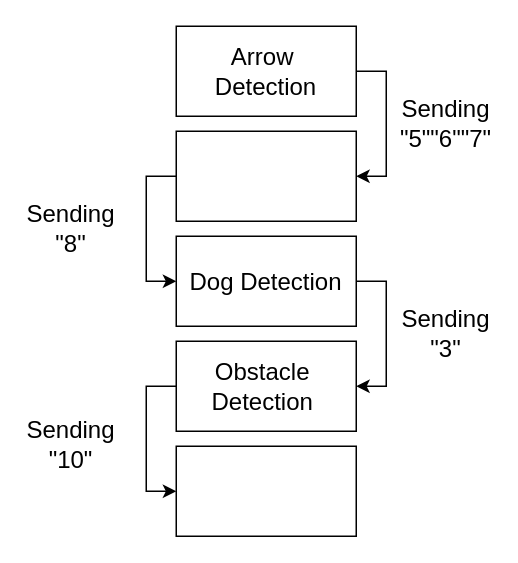
Image size: 518x563. Some labels were removed from this diagram. The shapes that lost their labels are listed below. From the top down, each one's centre as x and y in pixels, then its label:
At (265,175): "Traffic-light Detection".
At (265,490): "Door and Stop-line Detection".
